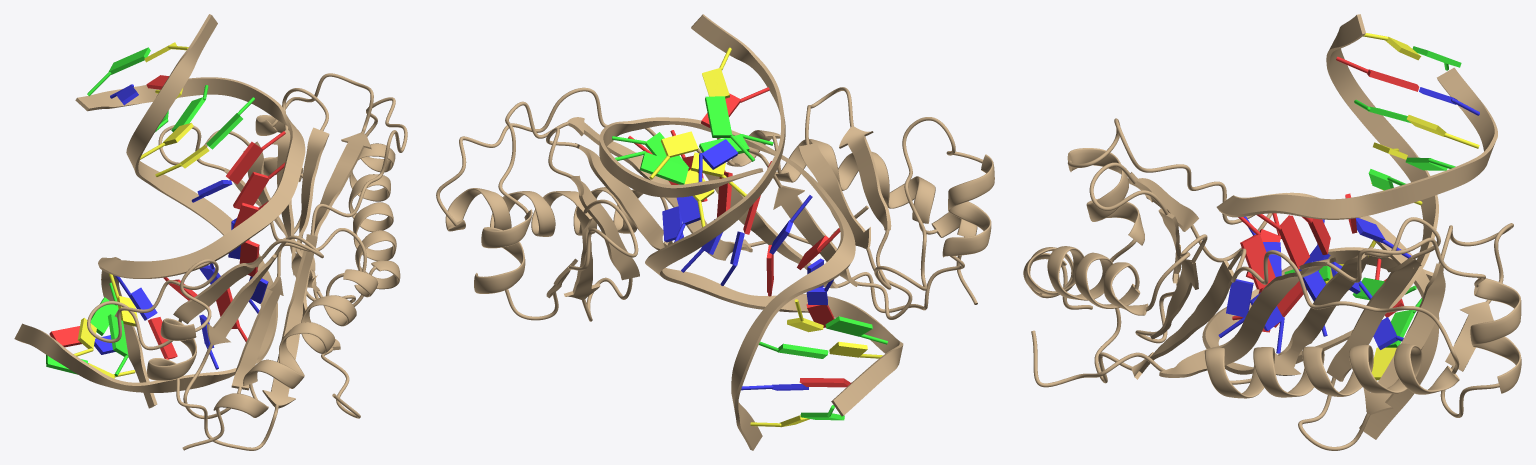
File: 1cdw_boundREDUCED.glb
3 renders of one model, left to right at view 1: azimuth 30°, elevation 25°; view 2: azimuth 150°, elevation 25°; view 3: azimuth 270°, elevation 25°, orthographic. The views are drawn at different scales.
Visible parts, largest first — view 1: ribbons, nucleotides; view 2: ribbons, nucleotides; view 3: ribbons, nucleotides.
Boxes of the visible parts, bbox=[...] form: ribbons: bbox=[14, 14, 407, 450]; nucleotides: bbox=[46, 42, 285, 378]; ribbons: bbox=[436, 14, 994, 450]; nucleotides: bbox=[612, 47, 887, 427]; ribbons: bbox=[1023, 14, 1521, 450]; nucleotides: bbox=[1218, 33, 1479, 380].
Size of the model in its own units: 50.69 by 48.9 by 48.46.
